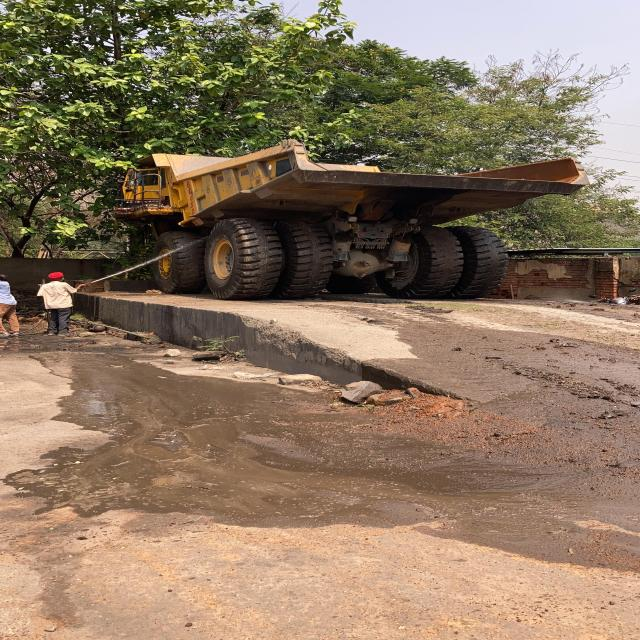dump_truck: (114, 134, 563, 306)
